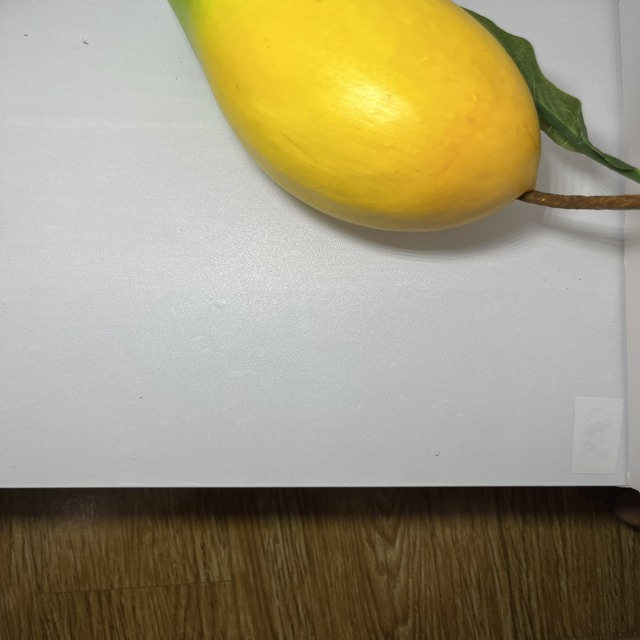Xoai: (153, 0, 556, 245)
